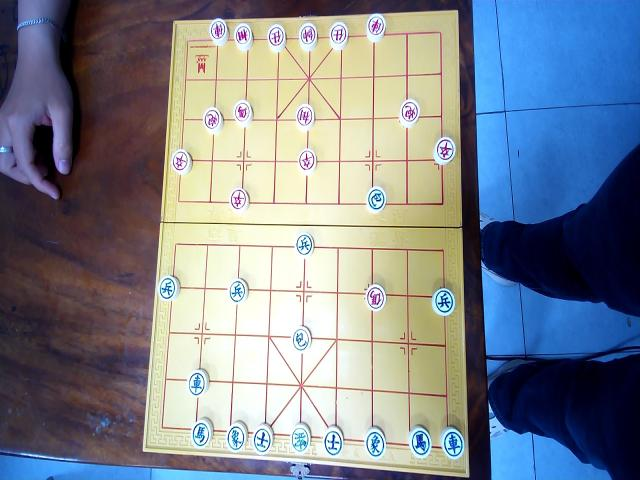piece: (408, 425, 432, 458), (440, 427, 464, 459), (432, 134, 456, 164), (431, 286, 455, 316), (226, 421, 248, 453), (364, 426, 386, 458), (254, 422, 274, 455), (323, 424, 343, 456), (366, 12, 386, 43), (290, 422, 310, 453), (398, 98, 419, 127), (202, 105, 223, 134), (328, 19, 348, 49), (191, 418, 211, 448), (158, 274, 180, 301), (365, 284, 386, 312), (234, 22, 254, 51), (298, 22, 318, 51), (266, 22, 286, 51), (209, 16, 229, 45), (171, 147, 191, 175), (233, 99, 253, 127), (187, 369, 207, 397), (366, 185, 386, 212), (229, 187, 249, 213), (294, 103, 314, 129), (298, 147, 316, 175), (228, 277, 246, 304), (294, 233, 314, 257), (292, 326, 310, 351)
